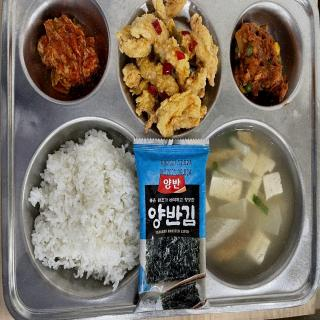Nasi: (29, 131, 134, 295)
